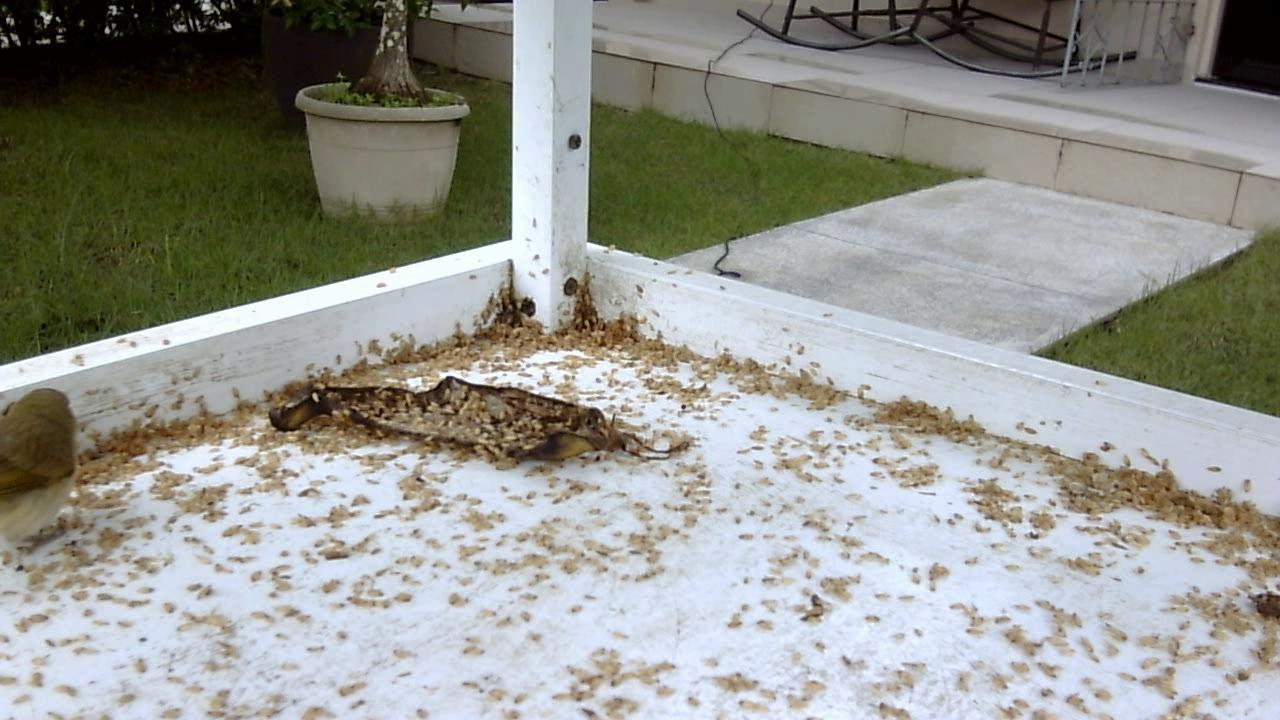canario_do_amazonas: (1, 381, 100, 575)
